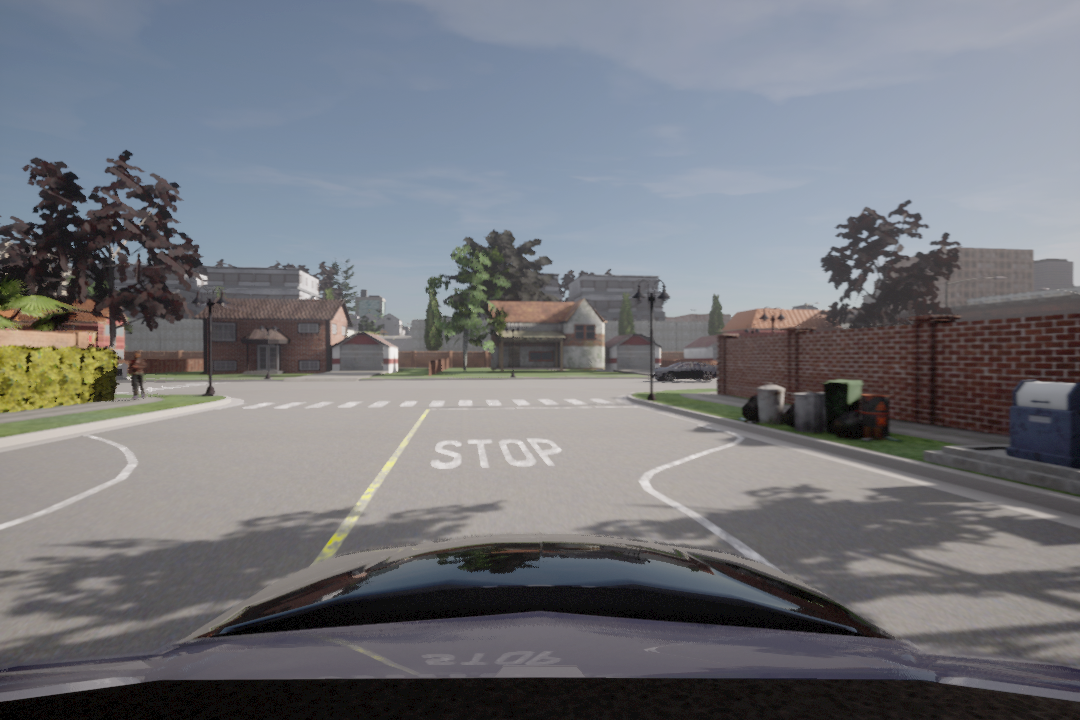walkside: (246, 394, 629, 412)
